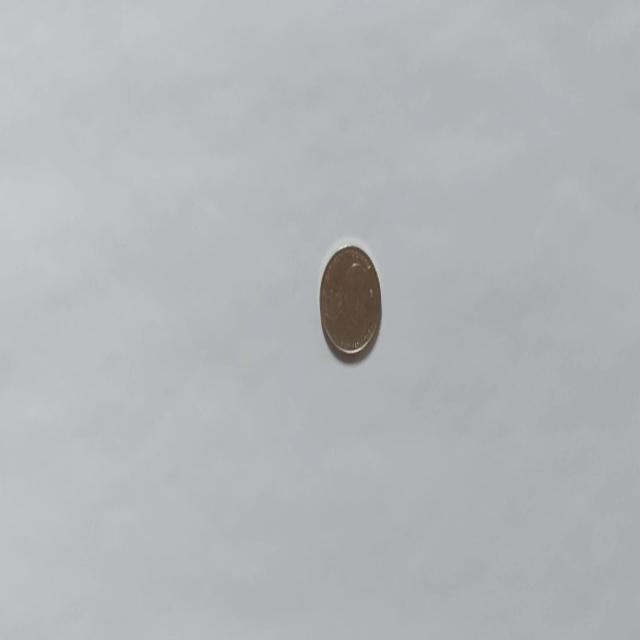seribu rupiah koin: (318, 239, 382, 361)
